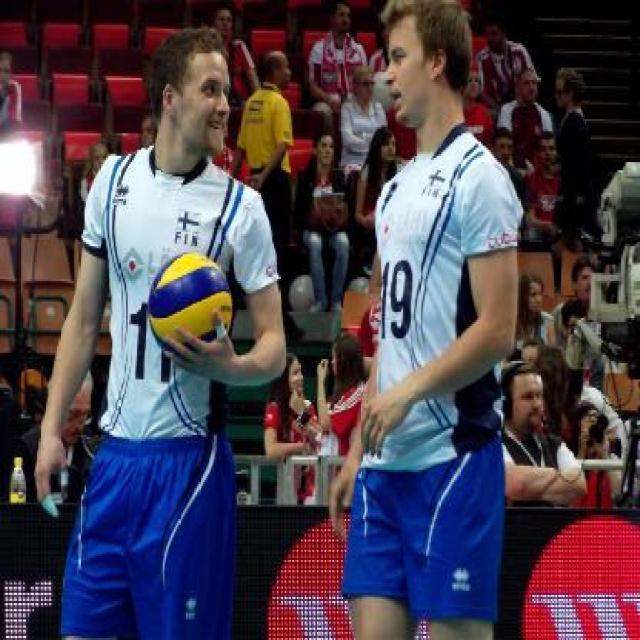volleyball: (148, 250, 232, 354)
